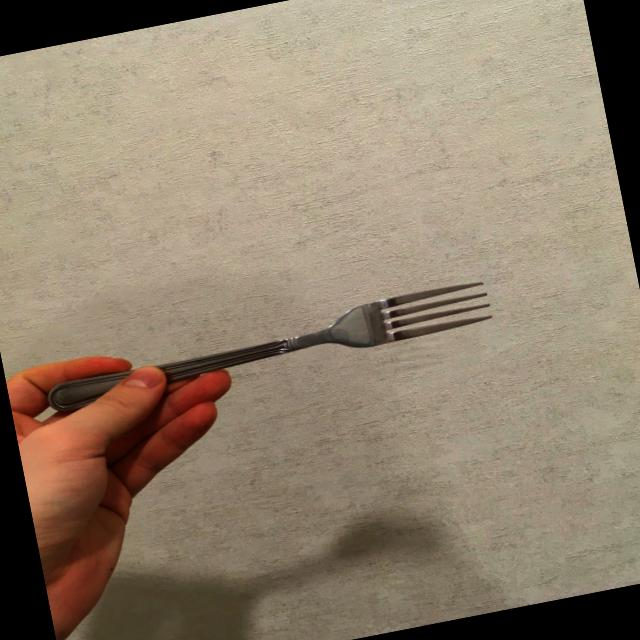fork: (41, 279, 496, 412)
